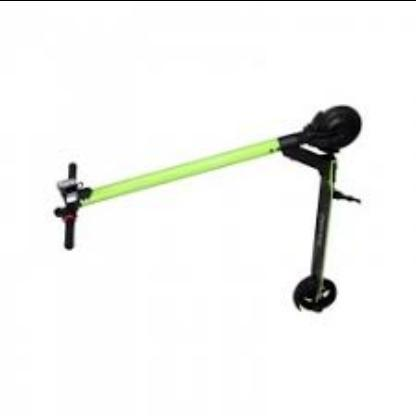bike: (52, 105, 364, 314)
